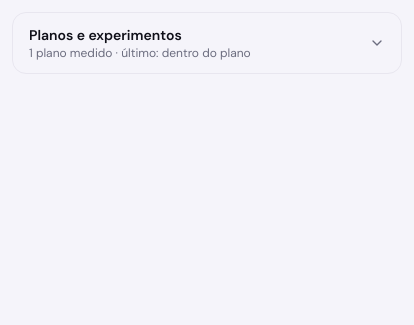
exibição do experimento de fim de semana (caso real de 10/11) › na terça: sem cartão 'Proposto'; só o resultado do Lazer, com combinado, gasto e padrão
This screenshot has width=414, height=325.
Expected: the text with test id "day-plans-summary" reads "1 plano medido · último: dentro do plano", x1=29 y1=45 x2=251 y2=61
Click the button "Planos e experimentos" at (207, 43), box x1=13 y1=13 x2=401 y2=73
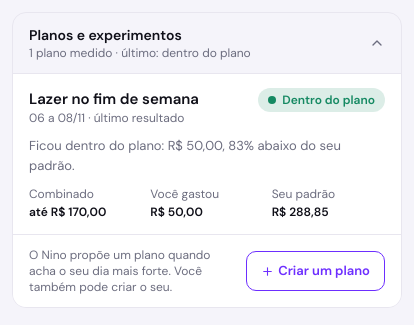
Expected: the text "Lazer no fim de semana" is shown, x1=29 y1=88 x2=199 y2=110
Expected: the element with test id "day-plan-numbers" reads "Combinado até R$ 170,00 Você gastou R$ 50,00 Seu padrão R$ 288,85", x1=29 y1=186 x2=385 y2=220
Expected: the text with test id "day-plan-last" reads "Ficou dentro do plano: R$ 50,00, 83% abaixo do seu padrão.", x1=29 y1=137 x2=341 y2=174
